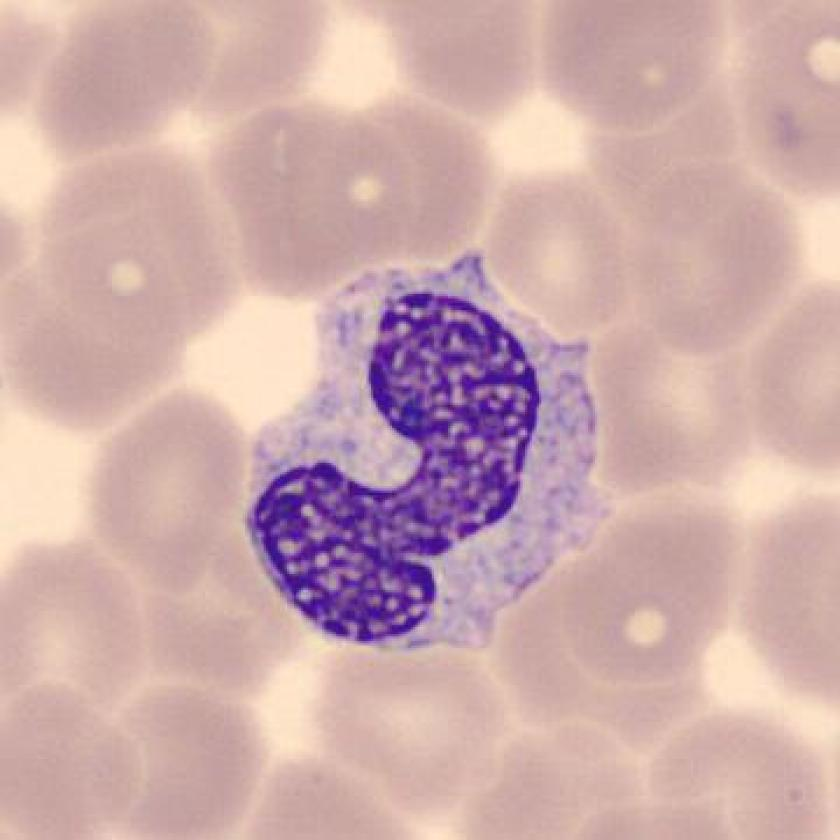monocyte: (220, 242, 624, 670)
